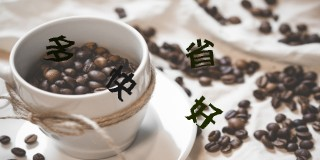多: (44, 33, 75, 64)
好: (185, 95, 222, 130)
快: (105, 65, 138, 102)
省: (185, 37, 218, 69)
